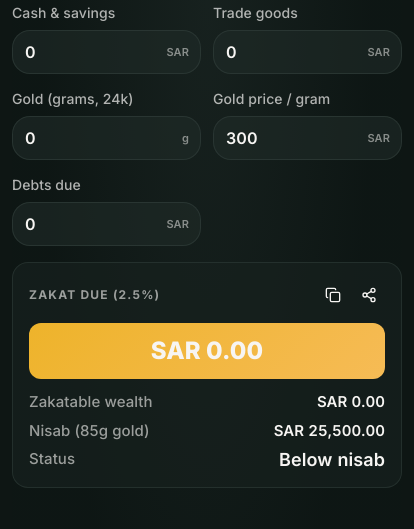
Test: ZakatCalculator — nisab must never be treated as reachable when unknown › does not report 'Zakat is due' when the gold price is blanked to zero
Replace the text in the number field below "Cash & savings" with "100". click: (106, 52)
box: [12,30,201,74]
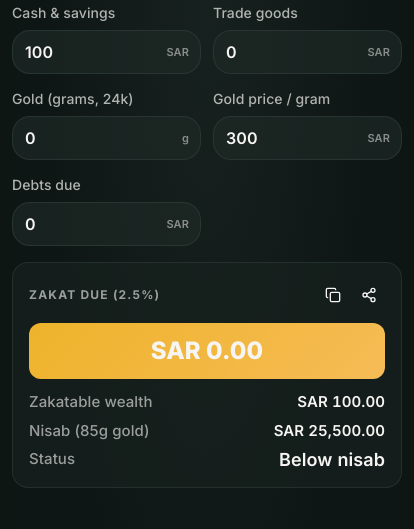
Clear the number field below "Gold price / gram". click: (308, 138)
box: [213,116,402,160]
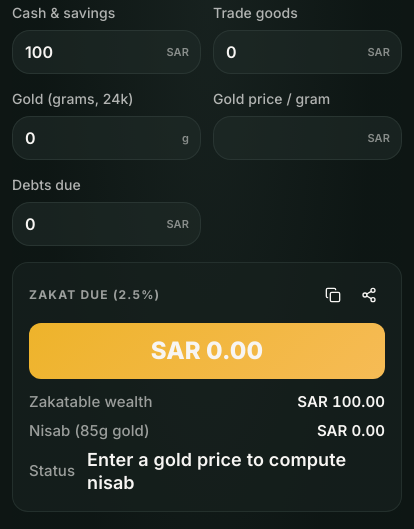
expect the text "Enter a gold price to compute nisab" is shown: met, box [87,448,385,495]
